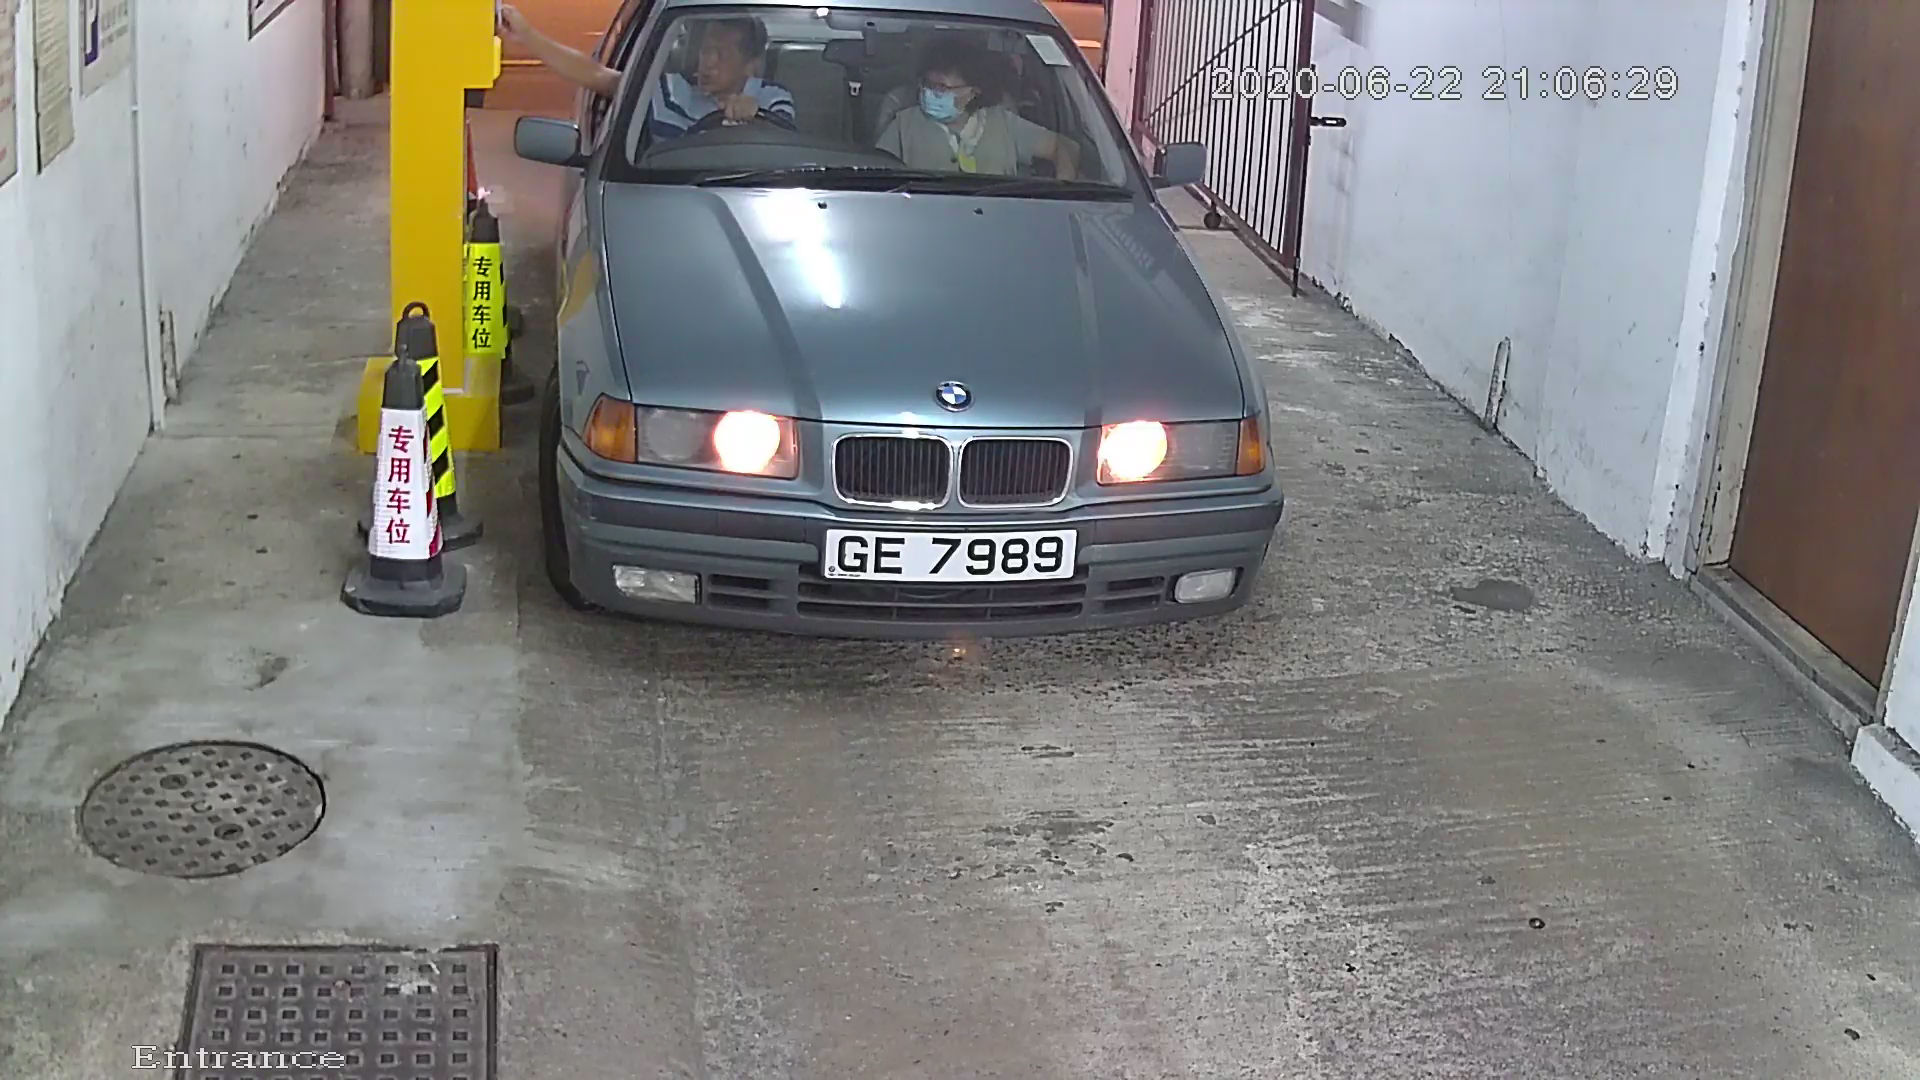privatecar: (530, 1, 1336, 636)
